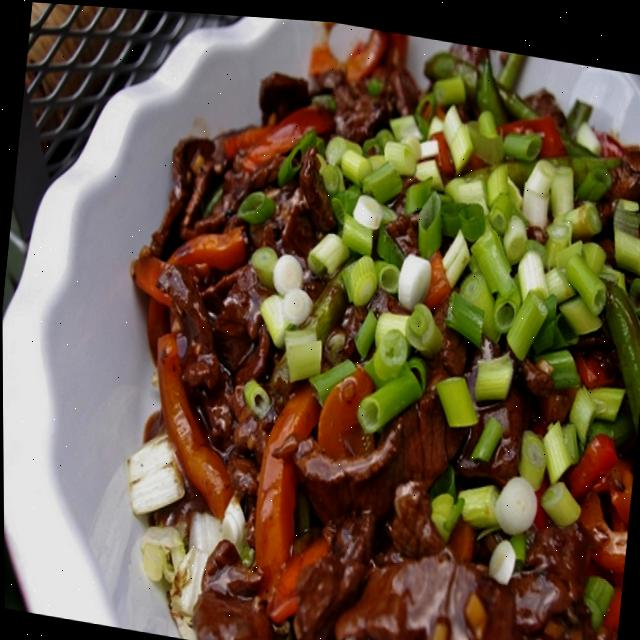牛肉菜式: (20, 1, 640, 640)
